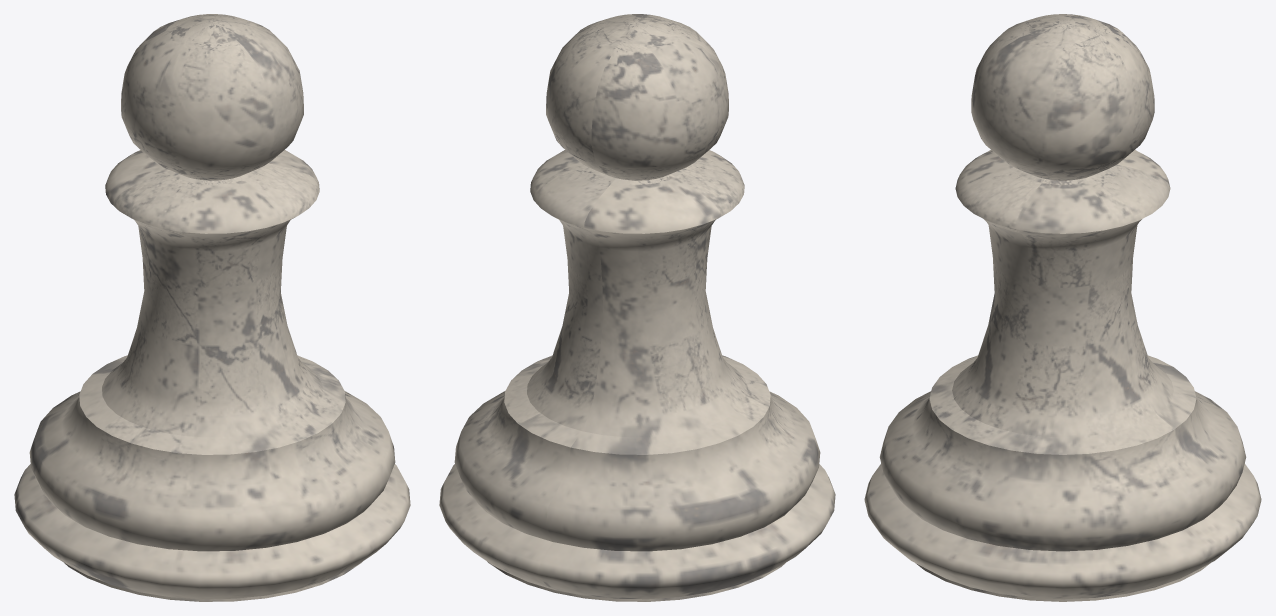
Rendered from mermer_p_w.glb.
3 renders of one model, left to right at view 1: azimuth 30°, elevation 25°; view 2: azimuth 150°, elevation 25°; view 3: azimuth 270°, elevation 25°, orthographic.
Visible parts, largest first — view 1: SM_Pawn10; view 2: SM_Pawn10; view 3: SM_Pawn10.
Part boxes in pixels (bbox=[...]): SM_Pawn10: bbox=[14, 14, 410, 601]; SM_Pawn10: bbox=[439, 14, 835, 601]; SM_Pawn10: bbox=[864, 14, 1261, 601].
Size of the model in its own units: 3.27 by 4.62 by 3.27.
1 material, 1 textured.
